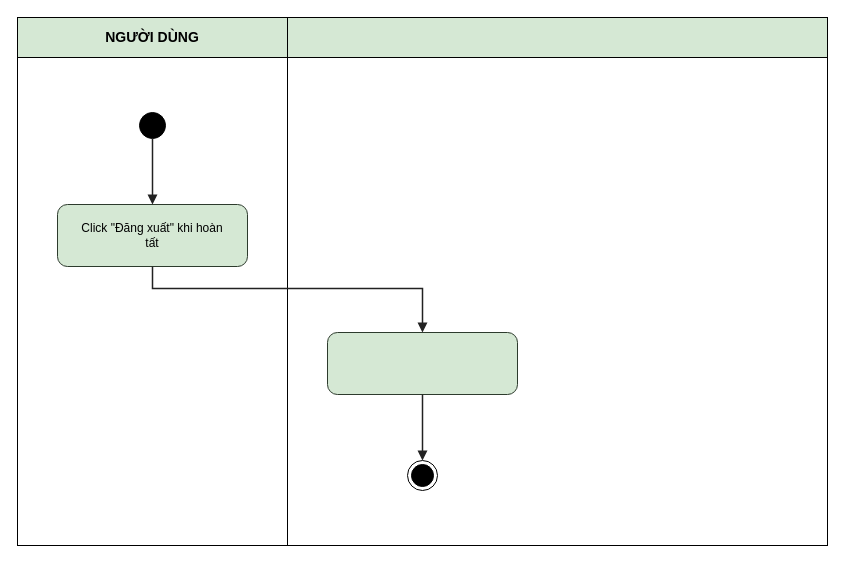
Some shapes in this 845 by 563 pixel diagram are drawn without their labels. Each missing label, with the centre of its shape:
HỆ THỐNG: the point at 557,37
Hủy Session, quay về trang chủ: the point at 422,363
